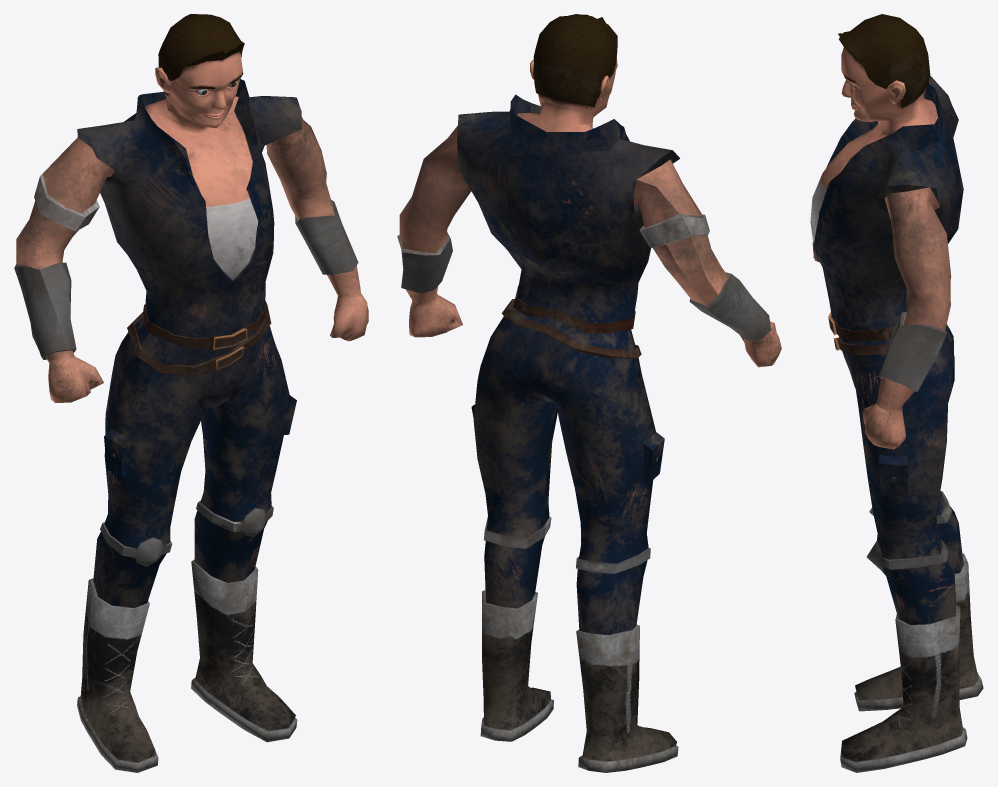
File: Anim_coger_objeto_jugador.0038.obj
3 renders of one model, left to right at view 1: azimuth 30°, elevation 25°; view 2: azimuth 150°, elevation 25°; view 3: azimuth 270°, elevation 25°, orthographic.
Visible parts, largest first — view 1: polySurface1; view 2: polySurface1; view 3: polySurface1.
Part boxes in pixels (<box>): polySurface1: <box>14,14,368,772</box>; polySurface1: <box>397,14,781,772</box>; polySurface1: <box>810,14,983,772</box>.
Size of the model in its own units: 4.84 by 9.76 by 2.12.
